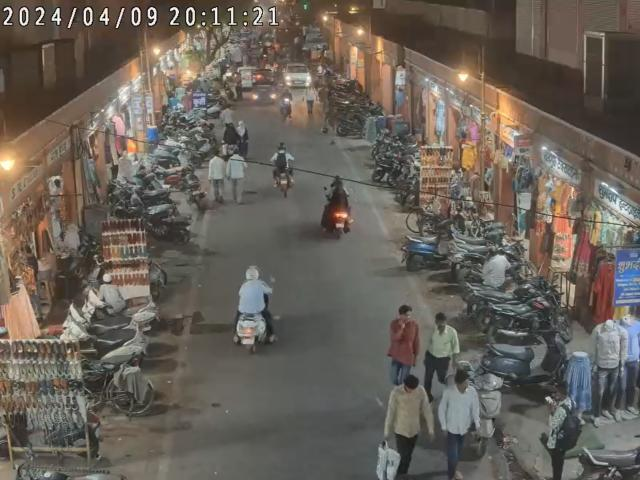motorbike: (466, 278, 570, 335)
no_helmet: (246, 263, 260, 286)
person: (384, 374, 435, 480), (436, 368, 483, 480), (539, 381, 579, 480), (382, 300, 422, 384), (421, 312, 462, 386)
scooty: (492, 324, 570, 392), (458, 356, 504, 456), (61, 324, 146, 378), (78, 275, 157, 331), (234, 254, 278, 352), (400, 217, 456, 266)
scooty-rider: (324, 176, 354, 236)
